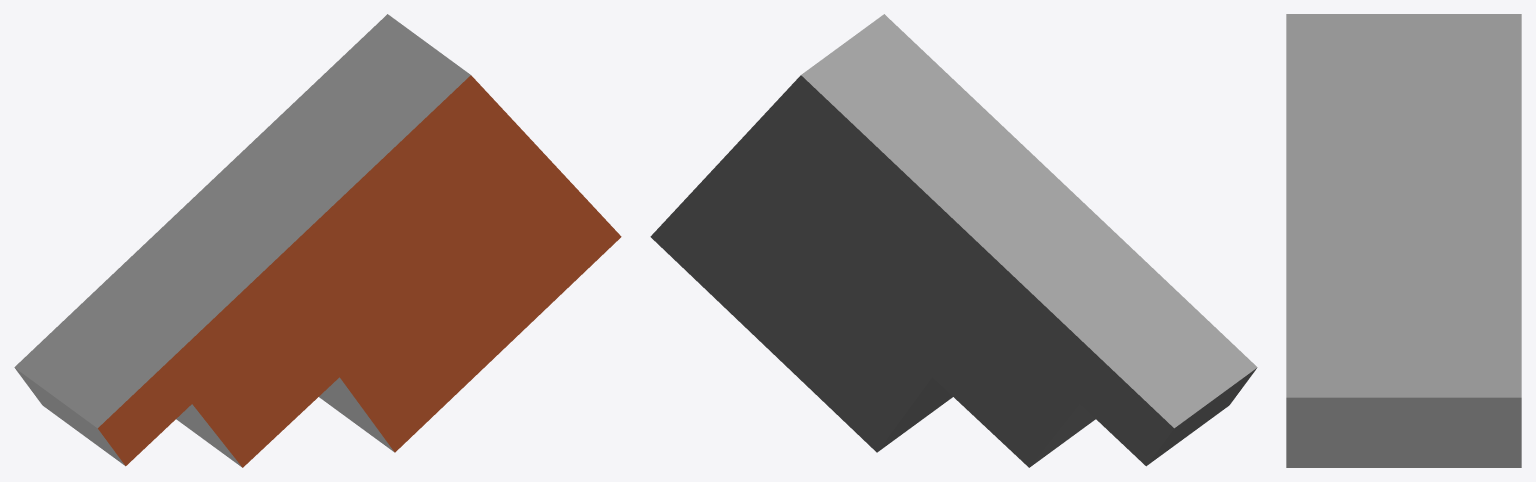
File: construction_5221_assumed_A_Casa_h6m.obj
3 views of the same model, side by side, from view 1: azimuth 30°, elevation 25°; view 2: azimuth 150°, elevation 25°; view 3: azimuth 270°, elevation 25° (orthographic). The views are drawn at different scales.
Parts seen in each view (by area): view 1: construction_5221_assumed_A_Casa; view 2: construction_5221_assumed_A_Casa; view 3: construction_5221_assumed_A_Casa.
Part boxes in pixels (x1,y1,x2,y2): construction_5221_assumed_A_Casa: (14,14,621,467); construction_5221_assumed_A_Casa: (650,14,1257,467); construction_5221_assumed_A_Casa: (1286,14,1521,467).
Size of the model in its own units: 21.77 by 14.26 by 6.
